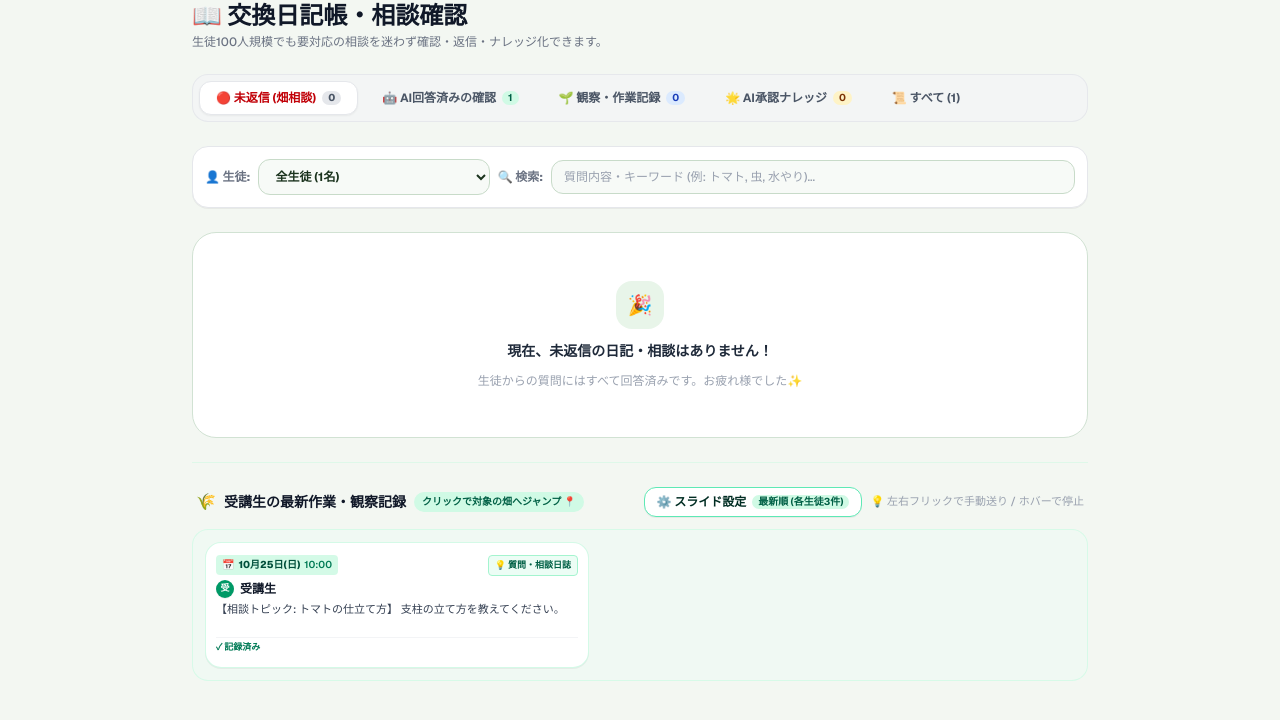
Test: TeacherJournalsView - 返信通知保存エラー時のユーザーフィードバック › ナレッジ承認モーダル経由: 返信通知の insert がエラーを返したとき、警告トーストが表示されること
The image size is (1280, 720).
Click the button "📜 すべて (1)".
click(926, 98)  # box [876,82,976,114]
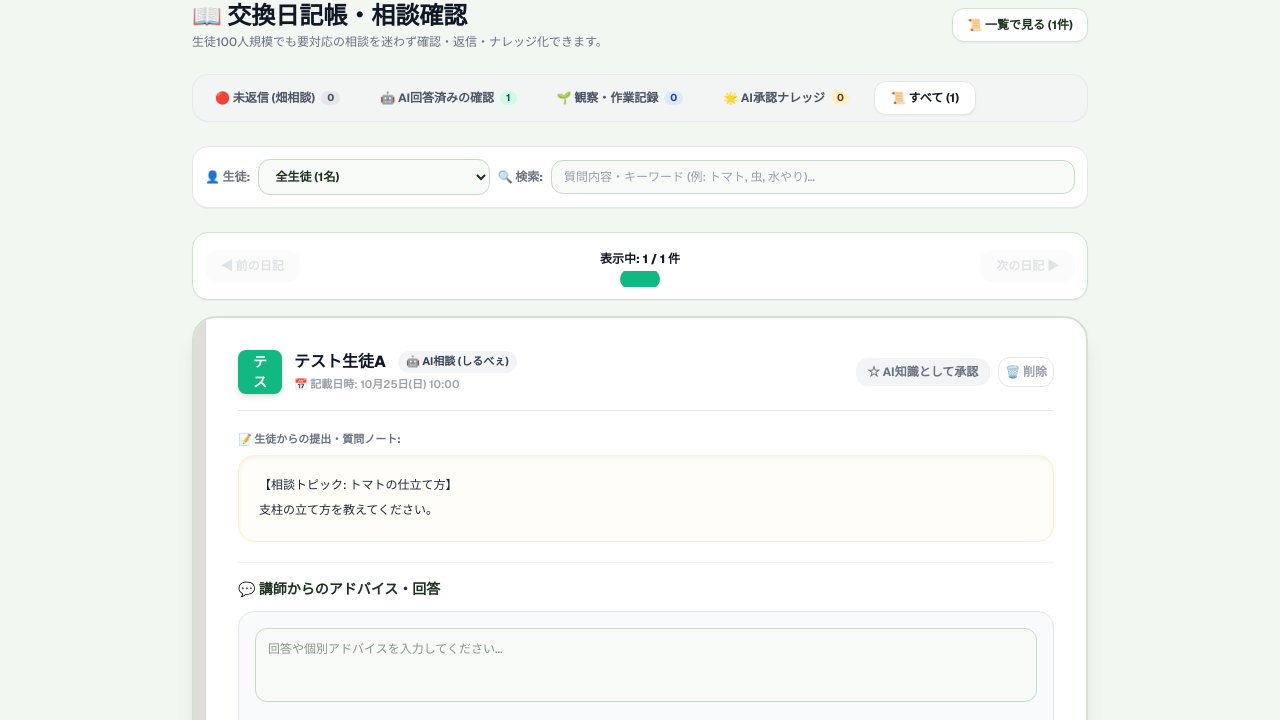
Type "支柱は合掌式で立ててください。" into the text box with placeholder "回答や個別アドバイスを入力してください...".
click(646, 665); type("支柱は合掌式で立ててください。")  # box [255,628,1037,702]
(page scrolled)
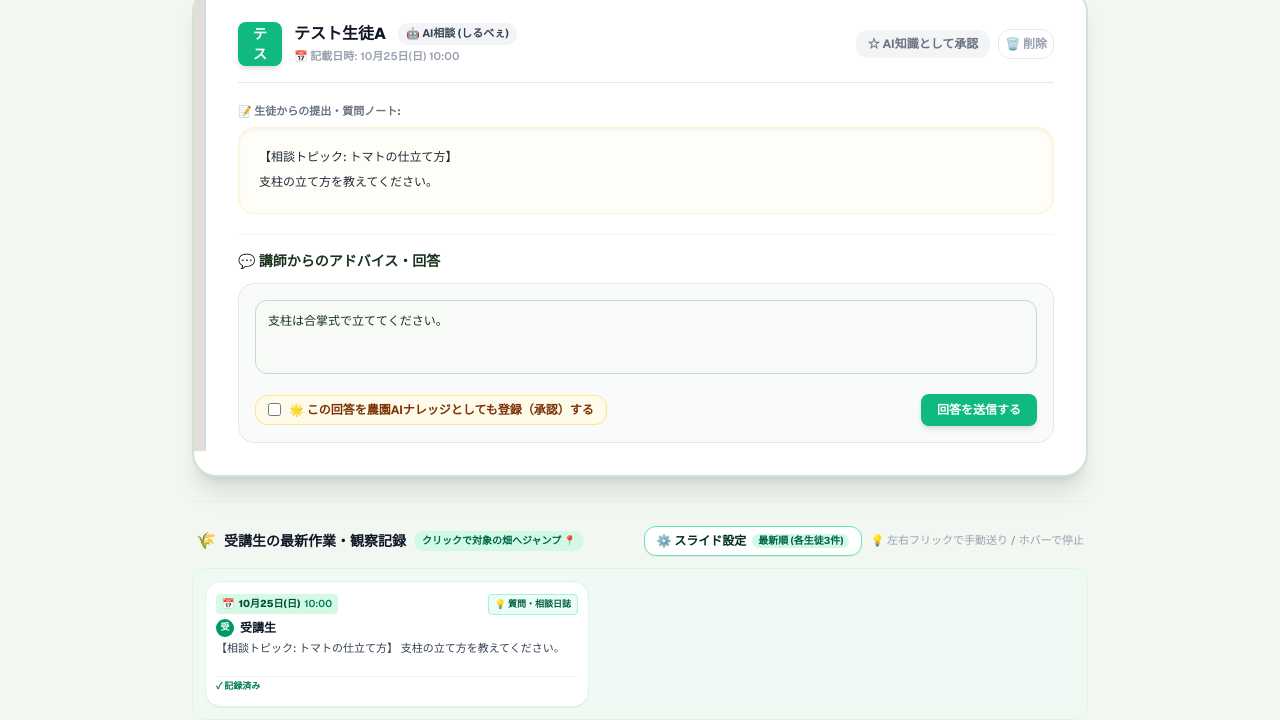
Note: 「🌟 この回答を農園AIナレッジとしても登録（承認）する」チェックボックスをON
Click the checkbox.
click(274, 410)  # box [268,403,281,416]
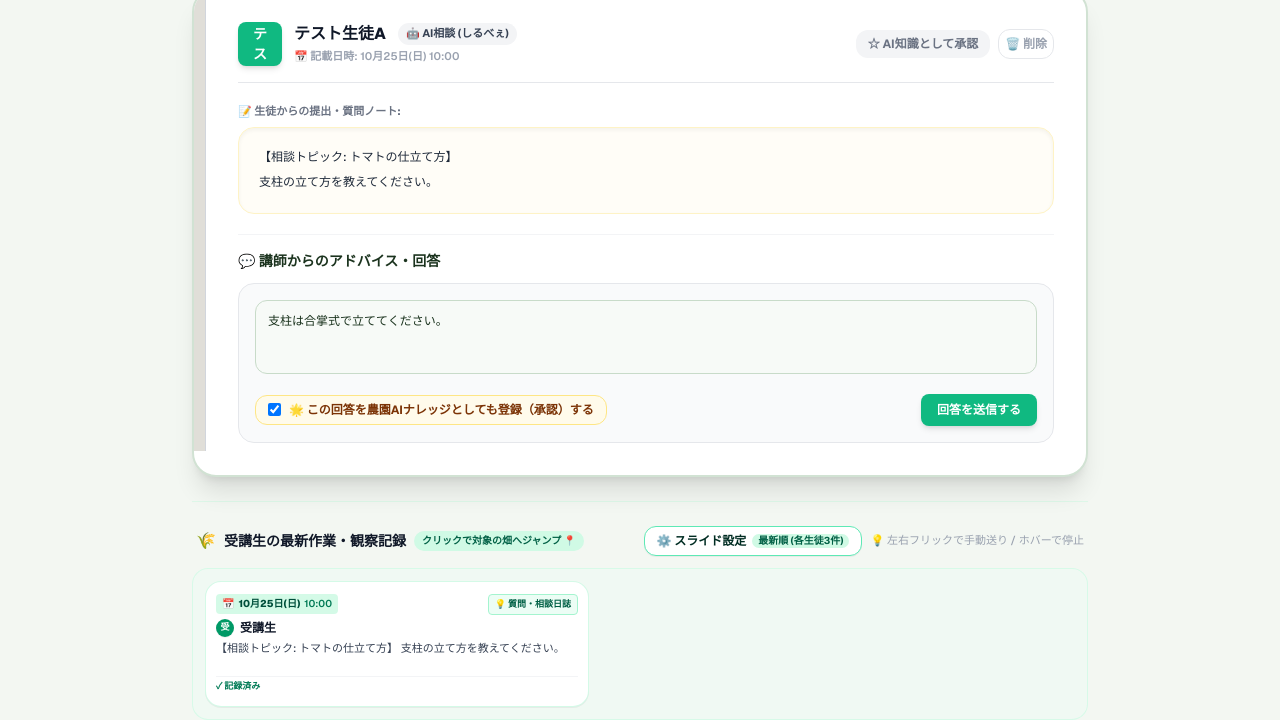
Note: 「回答を送信する」を押すとナレッジモーダルが開く
Click the button "回答を送信する".
click(979, 410)  # box [921,394,1037,426]
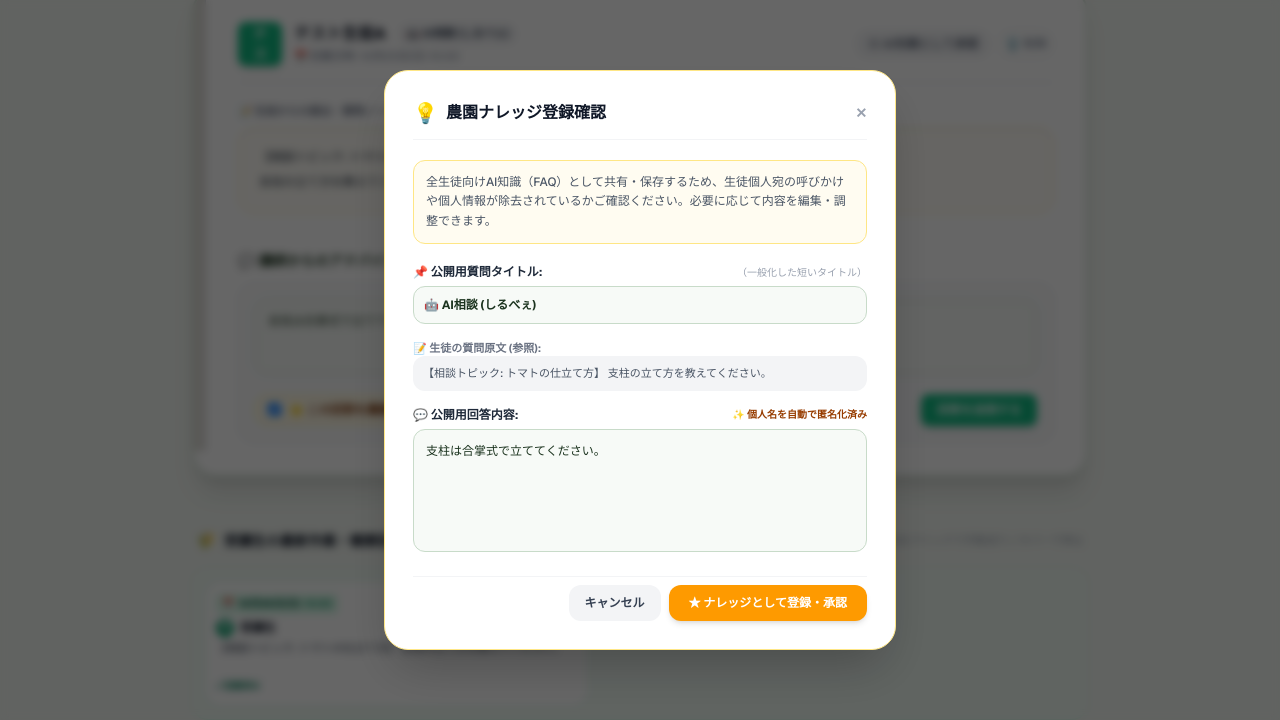
Note: モーダル内の「★ ナレッジとして登録・承認」ボタンを押下
Click the button "★ ナレッジとして登録・承認".
click(768, 603)  # box [669,585,867,621]
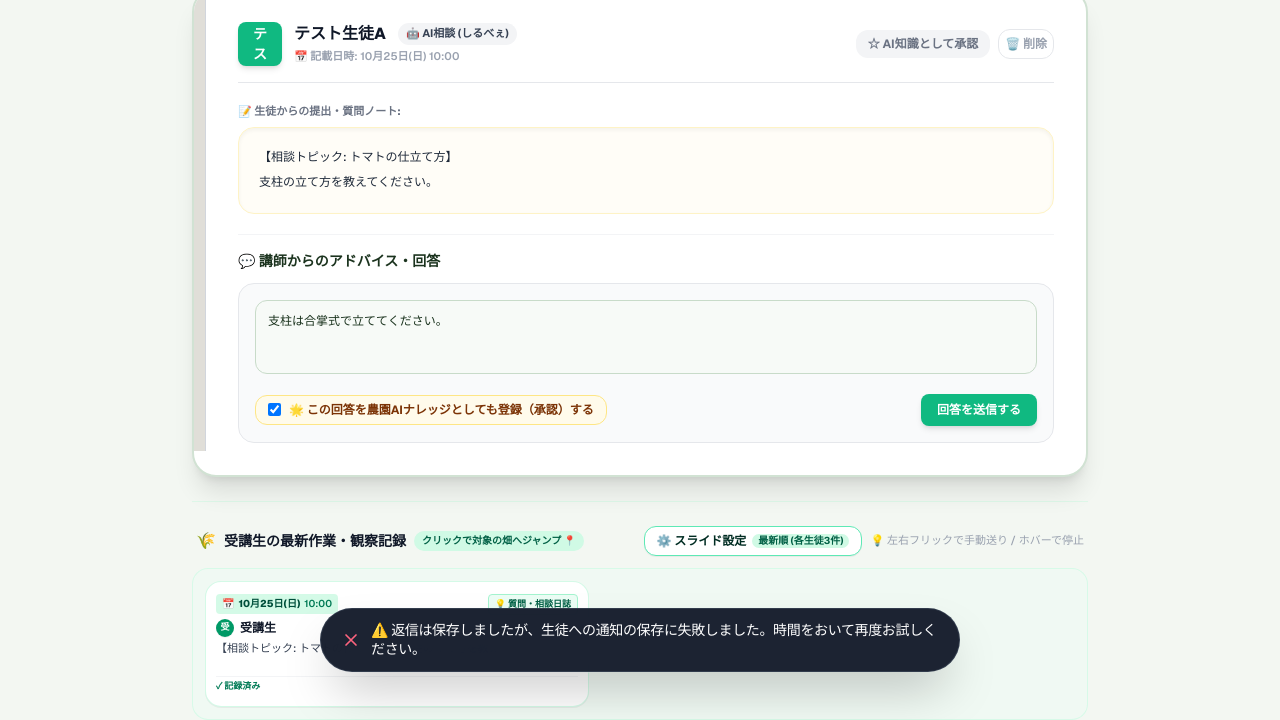
Check: the text "⚠️ 返信は保存しましたが、生徒への通知の保存に失敗しました。時間をおいて再度お試しください。" is shown, box [371,620,939,659]
